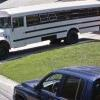Bus: (2, 0, 99, 56)
